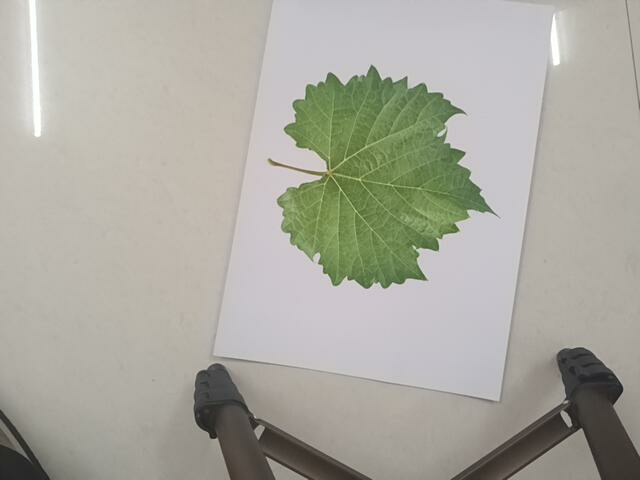Grape_Healthy: (266, 59, 508, 289)
